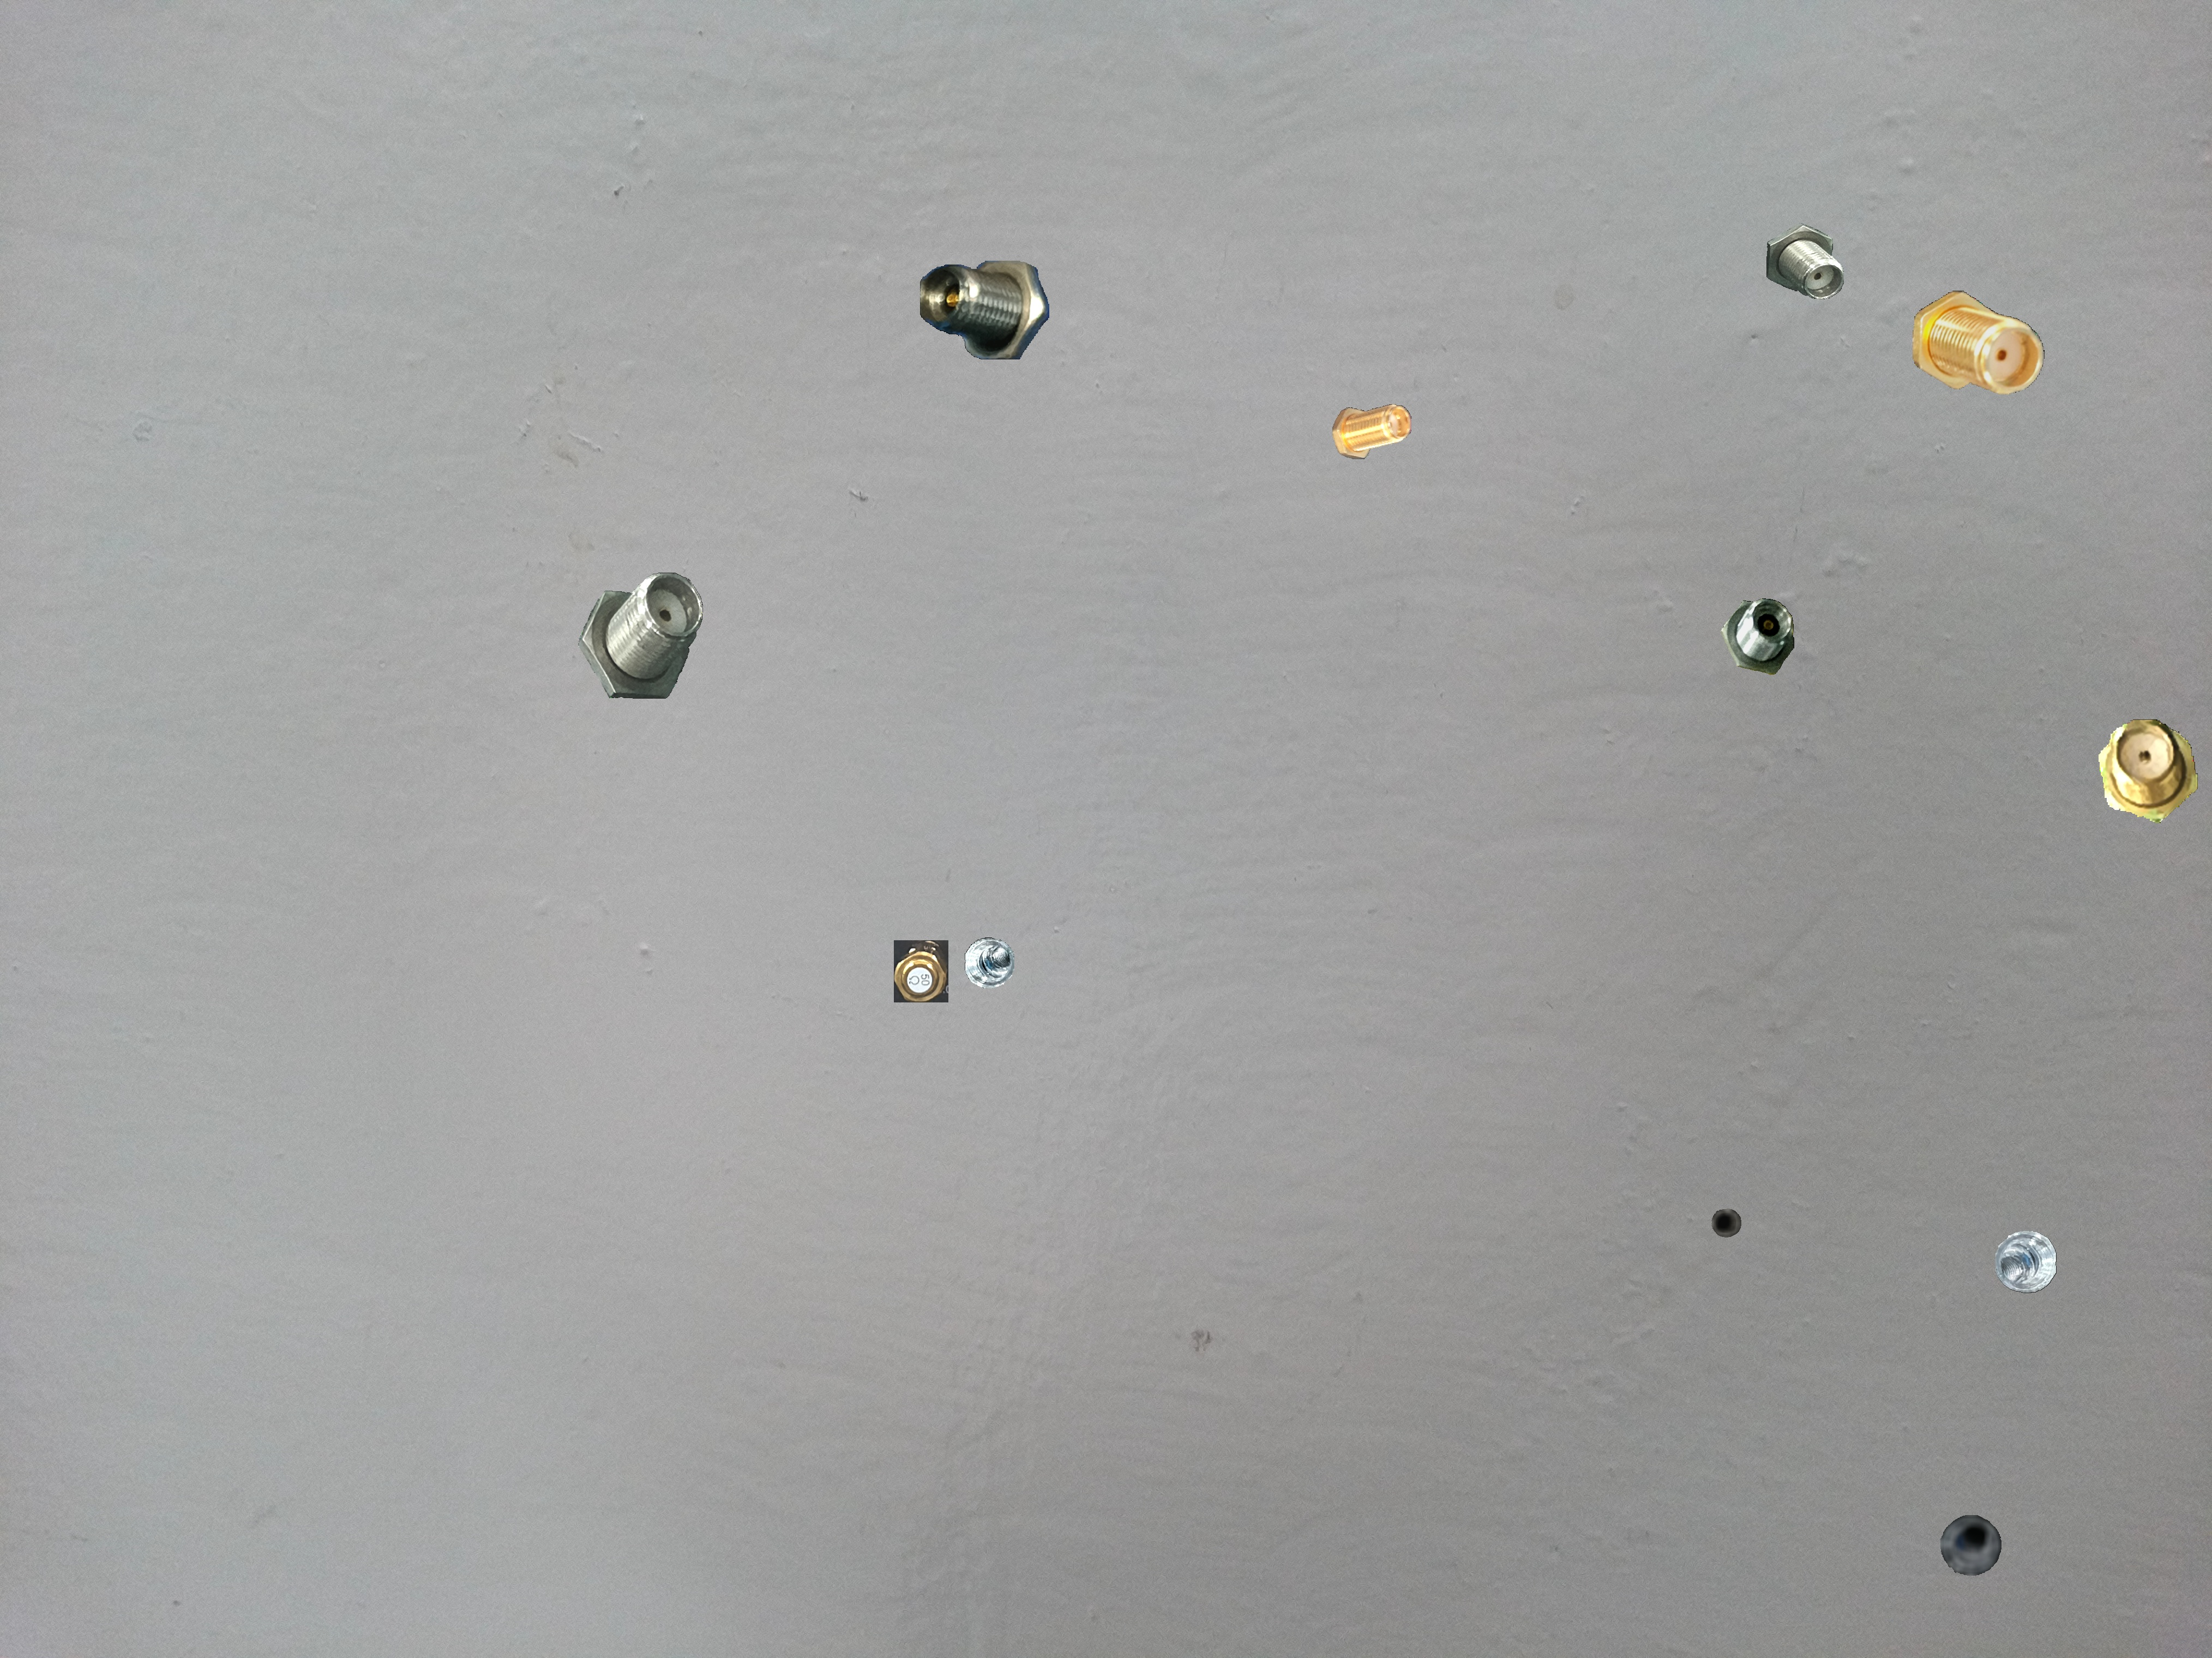Cgoldcap: (894, 940, 948, 1002)
Cpin_wNut: (578, 573, 702, 698), (1913, 291, 2044, 394), (920, 261, 1049, 359), (2099, 719, 2197, 822), (1766, 223, 1843, 299), (1721, 598, 1794, 674), (1332, 404, 1411, 459)
